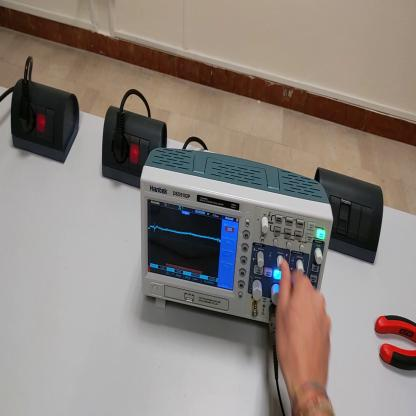hand: (275, 257, 334, 398)
oscilloscope: (140, 148, 333, 326)
pliers: (374, 315, 416, 371)
socket: (8, 76, 82, 170), (100, 102, 169, 189)
